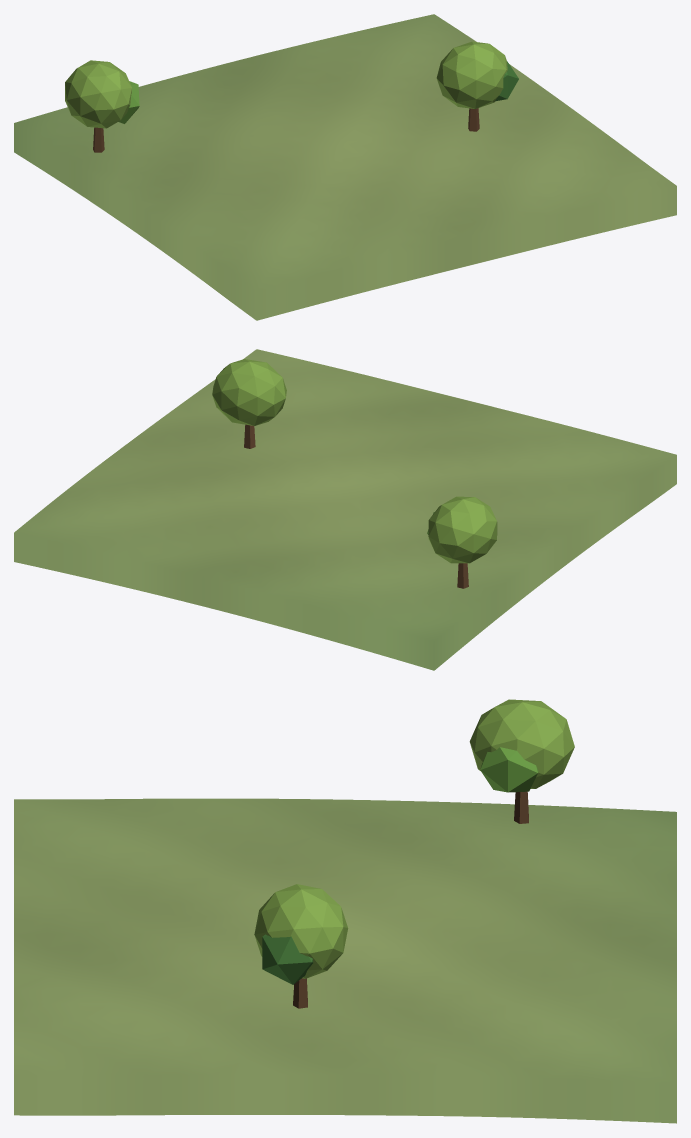
The picture shows the model from 3 angles, top to bottom: view 1: azimuth 30°, elevation 25°; view 2: azimuth 150°, elevation 25°; view 3: azimuth 270°, elevation 25°; orthographic projection. The views are drawn at different scales.
Visible parts, largest first — view 1: terrain, scenery; view 2: terrain, scenery; view 3: terrain, scenery.
Boxes of the visible parts, left/top/right/bottom form: terrain: left=14, top=14, right=676, bottom=320; scenery: left=65, top=41, right=518, bottom=152; terrain: left=14, top=349, right=676, bottom=670; scenery: left=212, top=359, right=497, bottom=588; terrain: left=14, top=798, right=676, bottom=1123; scenery: left=254, top=699, right=574, bottom=1008.
Size of the model in its own units: 30.13 by 8.86 by 30.
